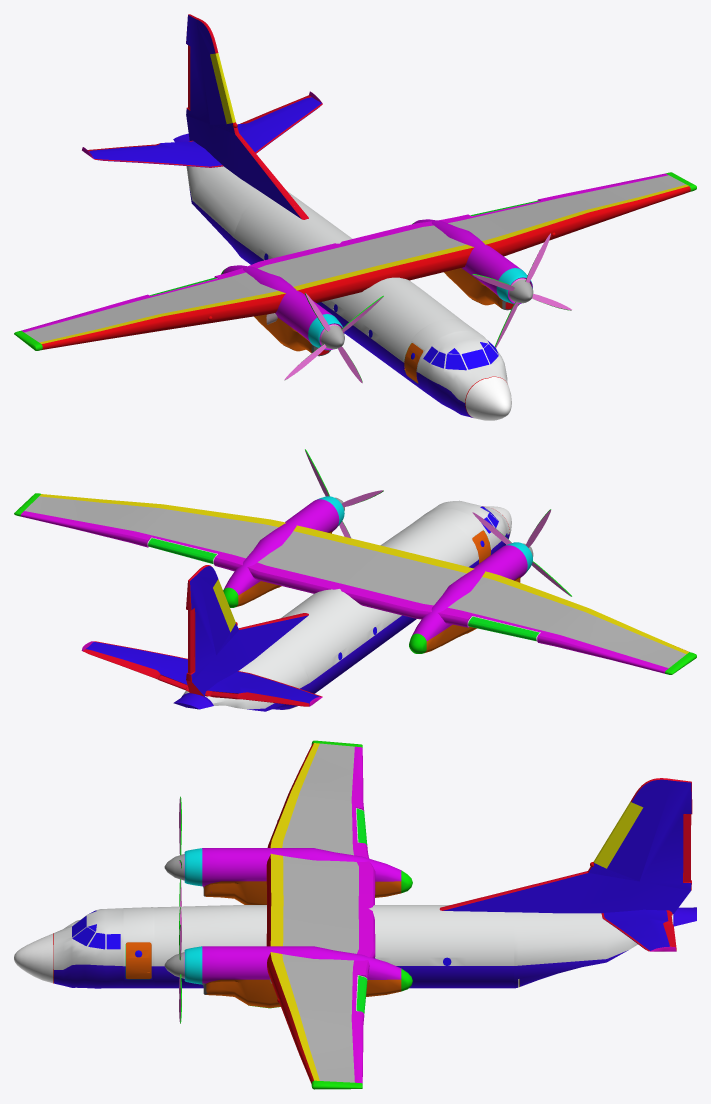
Rendered from antonow - Kopie3.fbx.
3 views of the same model, one above another, from view 1: azimuth 30°, elevation 25°; view 2: azimuth 150°, elevation 25°; view 3: azimuth 270°, elevation 25° (orthographic). The views are drawn at different scales.
Parts seen in each view (by area): view 1: Wing, TopControll, CockpitOutside, Rudder, Engine, SideRudder, BodyBack, EngineFront; view 2: Wing, TopControll, Engine, Rudder, SideRudder, BodyBack, CockpitOutside, EngineFront; view 3: Wing, TopControll, Rudder, Engine, CockpitOutside, BodyBack, SideRudder, EngineFront, CockpitDoor.
Boxes of the visible parts, x1,y1,x2,y2 form: Wing: (14, 172, 696, 350); TopControll: (234, 194, 464, 379); CockpitOutside: (402, 319, 511, 420); Rudder: (186, 14, 308, 219); Engine: (221, 219, 532, 356); SideRudder: (82, 91, 322, 167); BodyBack: (173, 133, 294, 255); EngineFront: (284, 233, 571, 383); Wing: (14, 493, 696, 674); TopControll: (278, 517, 477, 693); Engine: (223, 496, 532, 653); Rudder: (186, 565, 308, 696); SideRudder: (81, 641, 322, 706); BodyBack: (173, 641, 309, 711); CockpitOutside: (416, 500, 511, 564); EngineFront: (305, 449, 571, 596); Wing: (266, 740, 375, 1089); TopControll: (154, 905, 514, 988); Rudder: (439, 778, 692, 913); Engine: (184, 848, 412, 1008); CockpitOutside: (14, 907, 154, 988); BodyBack: (514, 907, 696, 988); SideRudder: (601, 909, 676, 951); EngineFront: (164, 796, 184, 1023); CockpitDoor: (126, 942, 151, 978).
Size of the model in its own units: 2899 by 2423 by 798.
